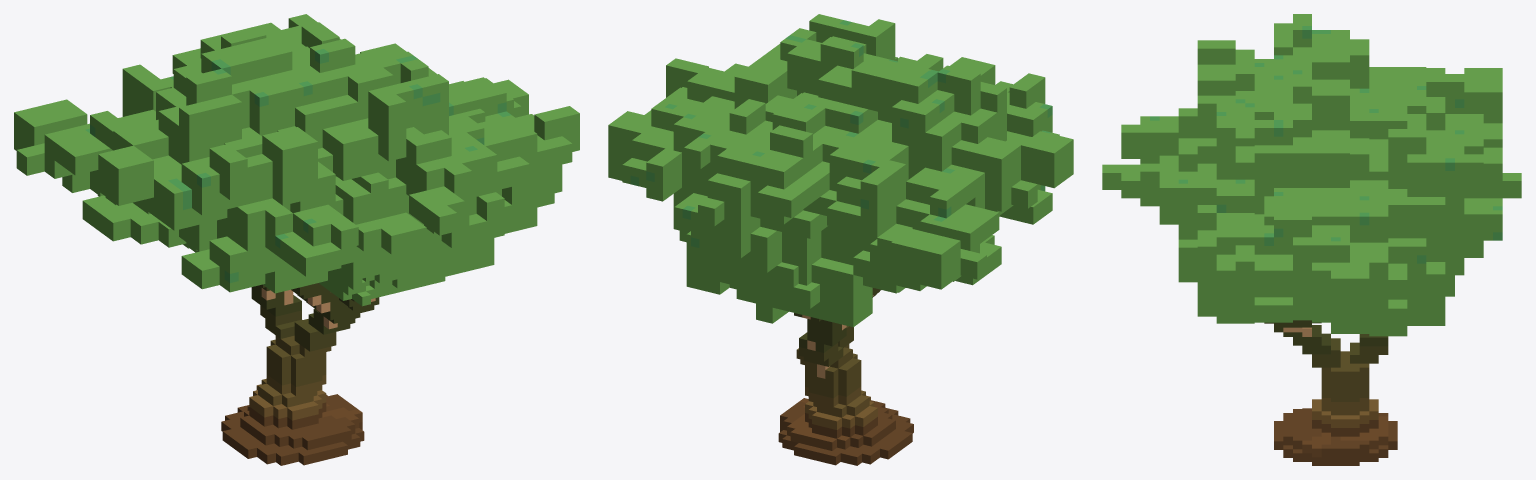
Rendered from 2_2 acero.obj.
3 renders of one model, left to right at view 1: azimuth 30°, elevation 25°; view 2: azimuth 150°, elevation 25°; view 3: azimuth 270°, elevation 25°, orthographic. The views are drawn at different scales.
Size of the model in its own units: 5 by 4.3 by 4.4.
Materials: 1 (1 with a texture image).
